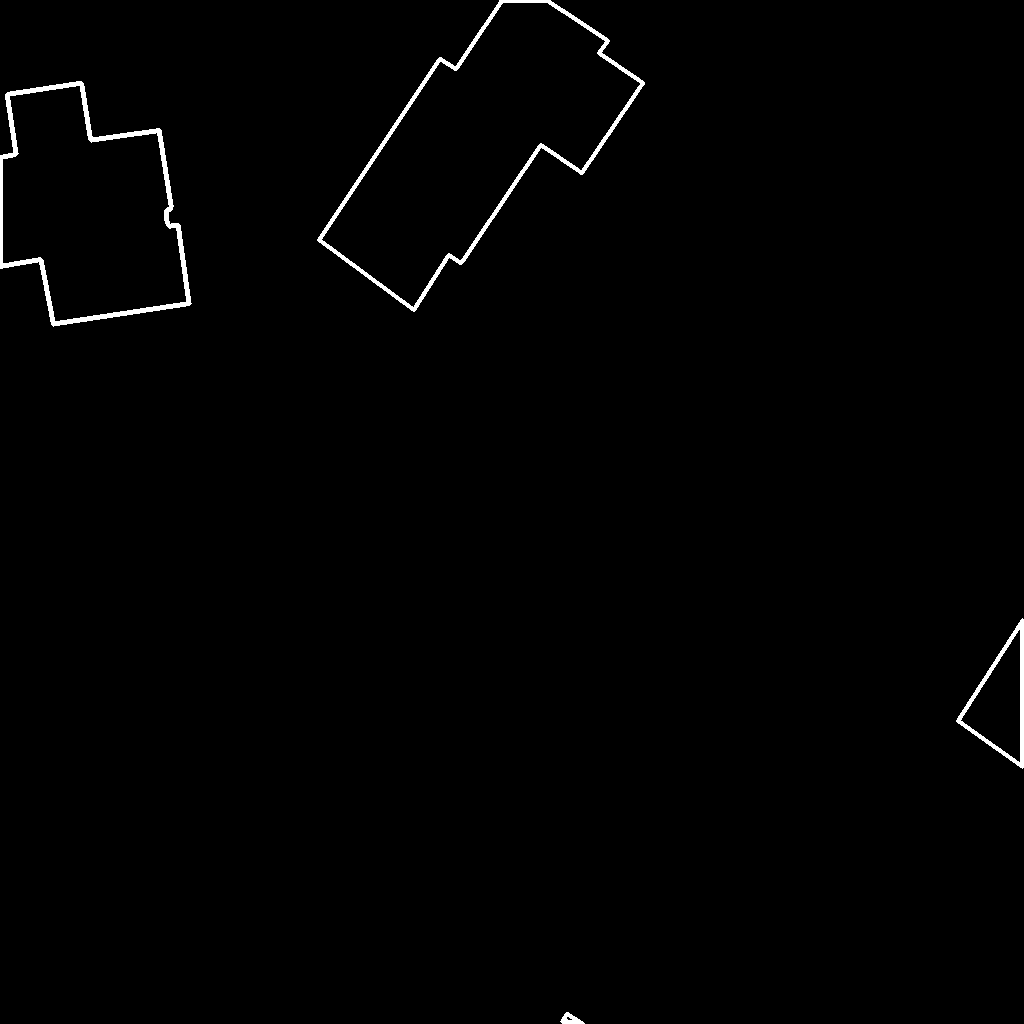building: (319, 0, 644, 311), (0, 83, 190, 325), (958, 620, 1024, 768), (562, 1014, 584, 1024)
